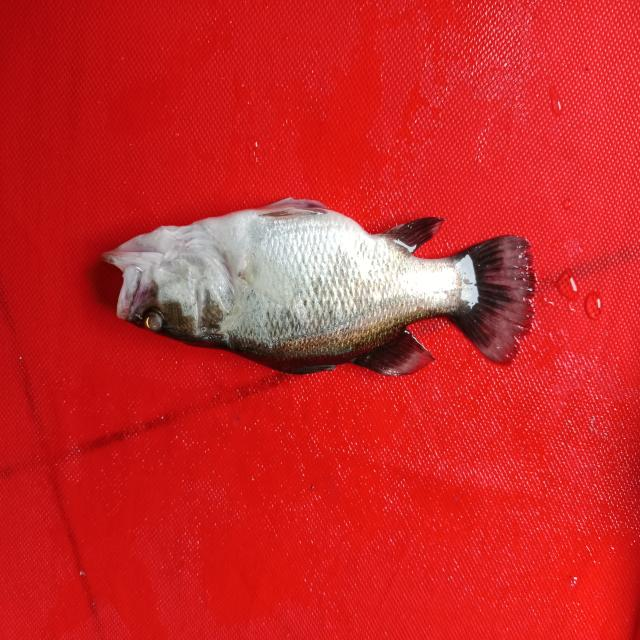ikan: (101, 184, 552, 400)
